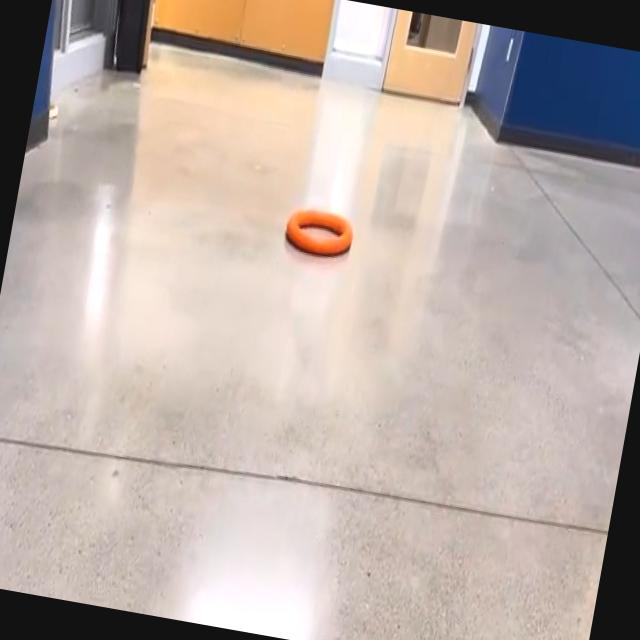note: (288, 207, 352, 255)
